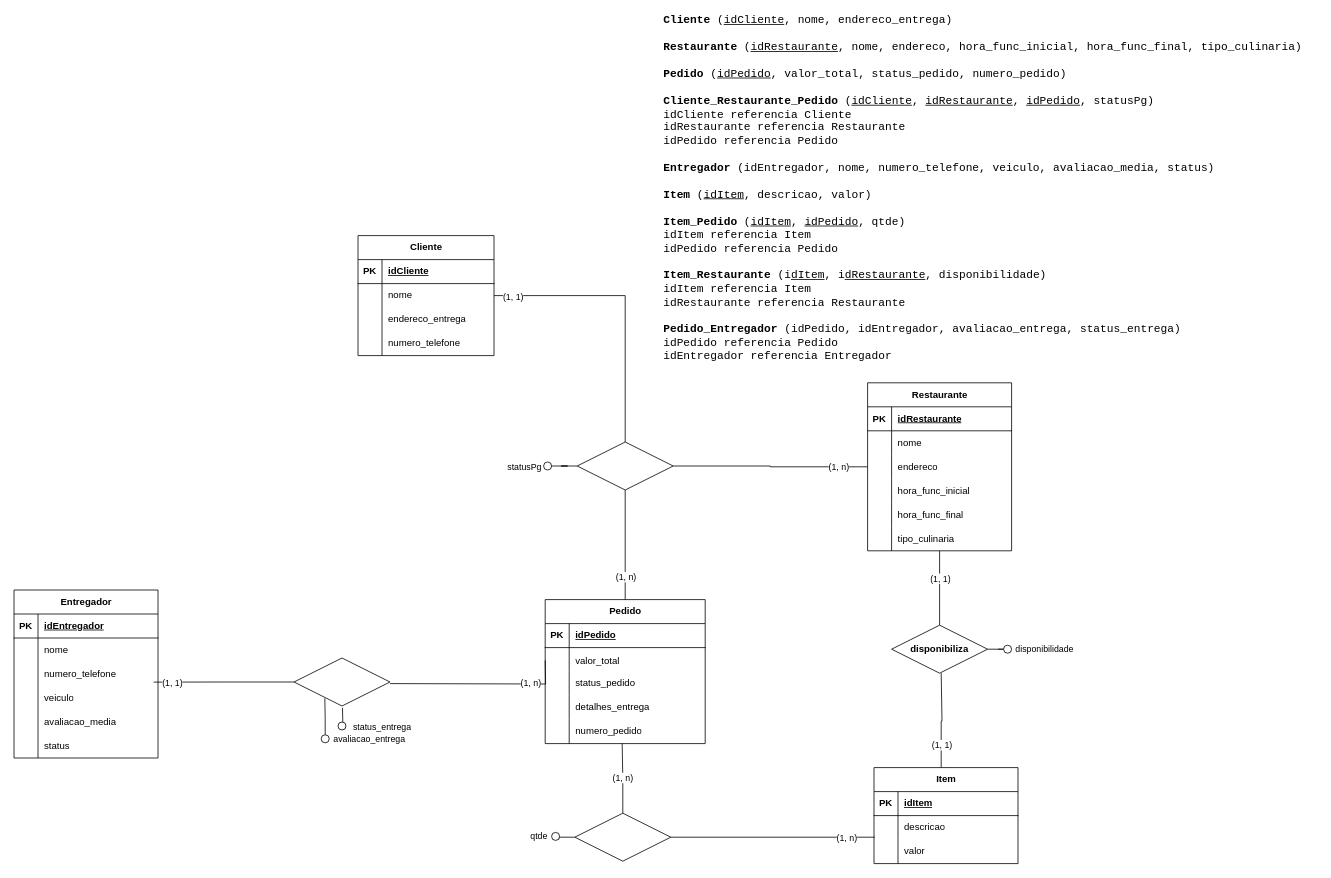
Image size: 1331x878. Some labels were removed from this diagram. Here are the shapes that lost their labels. From the top down, the centre of each, then its label:
[624,465]: realiza
[341,681]: entrega
[622,836]: adiciona
